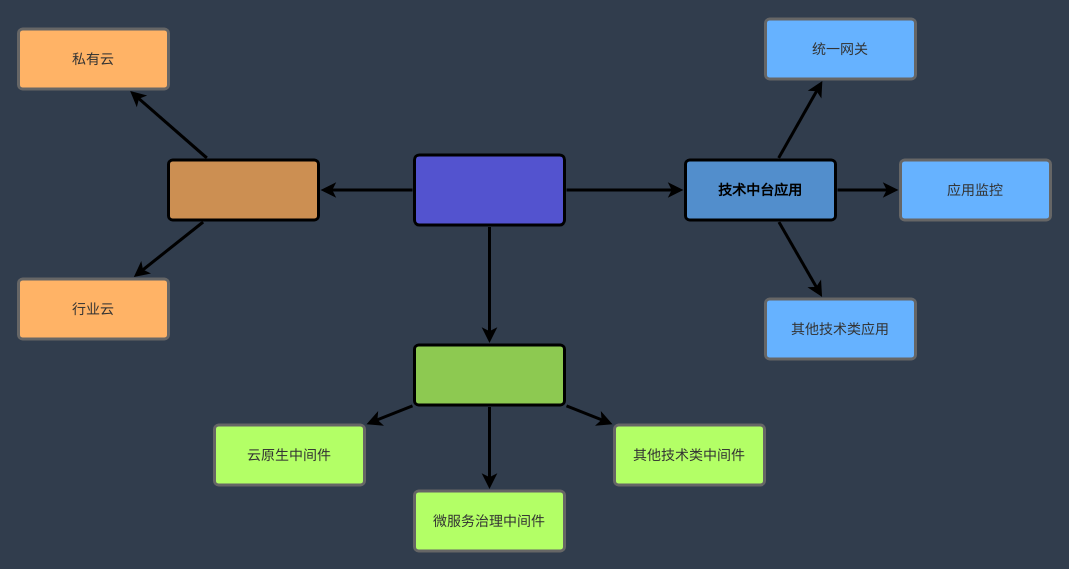
Image size: 1069x569. Some labels were removed from this diagram. The shapes that lost their labels are listed below. From the top down, each one's centre as x and y in pixels, then its label:
At [243,189]: "云计算平台".
At [489,189]: "技术中台".
At [489,374]: "中间件".
